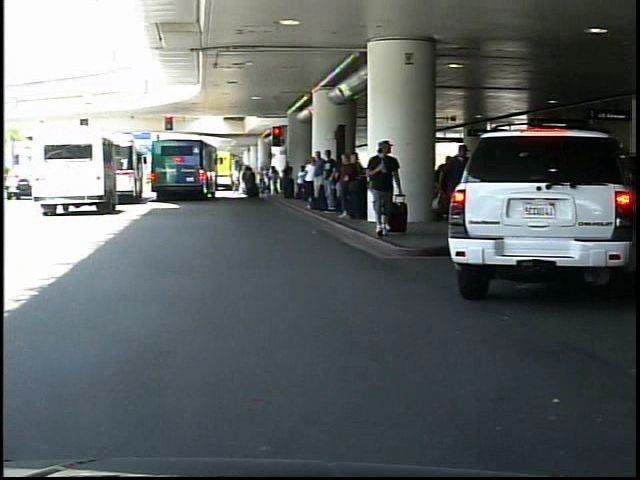person: (368, 137, 407, 242)
